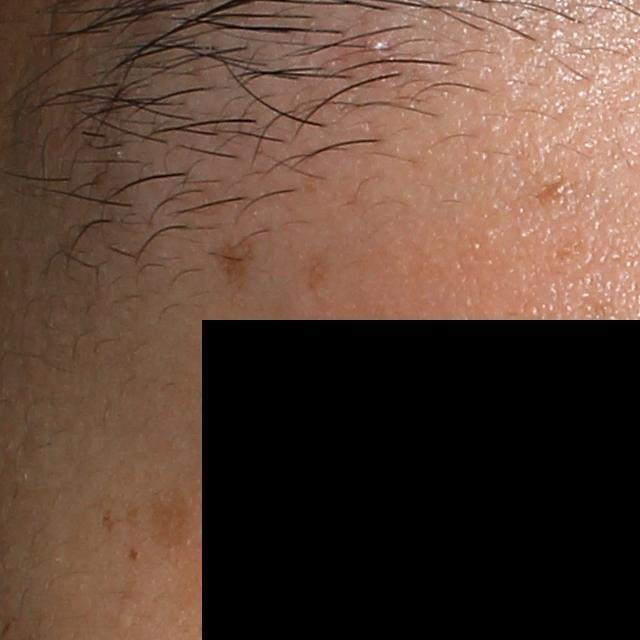comedo: (363, 36, 390, 56)
melasma: (211, 232, 261, 301), (566, 289, 625, 328), (543, 232, 593, 275), (303, 250, 339, 304), (532, 173, 576, 210)
